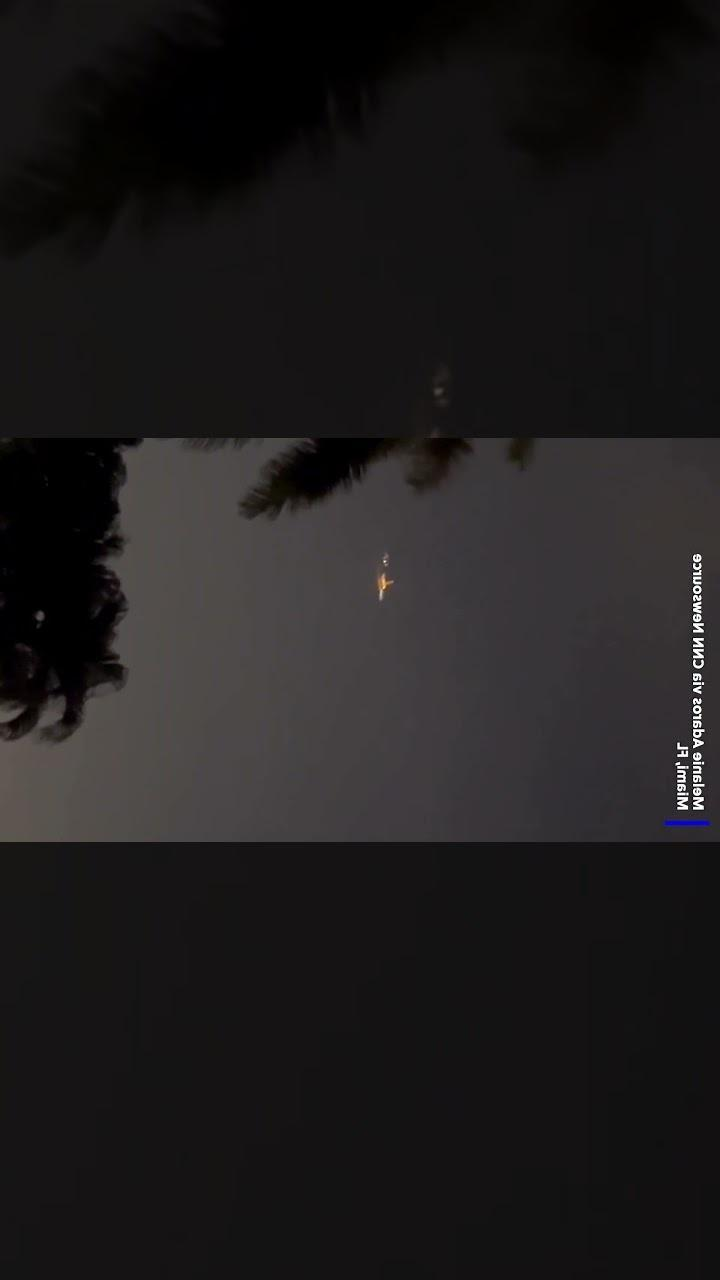Plane: (359, 537, 410, 618)
